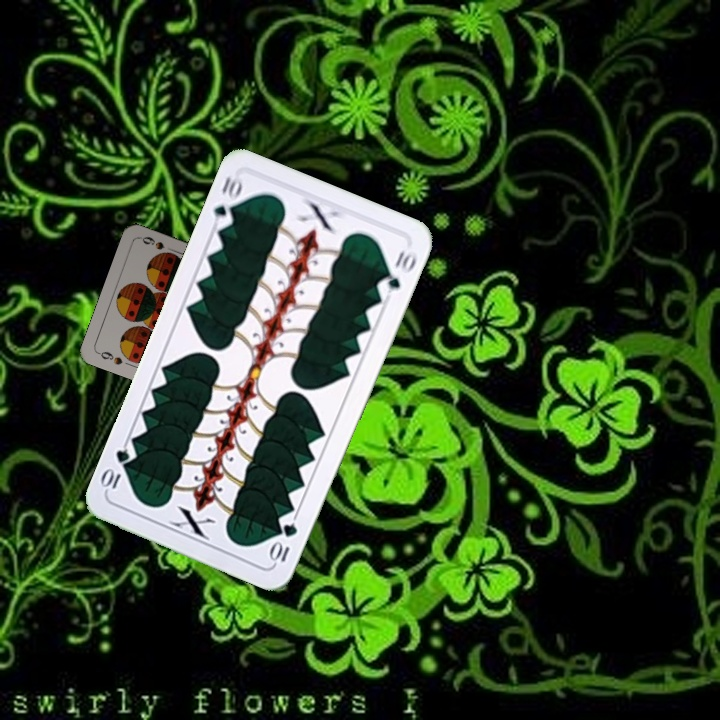G10: (209, 172, 245, 231), (267, 518, 300, 566)
S9: (94, 347, 125, 367)
